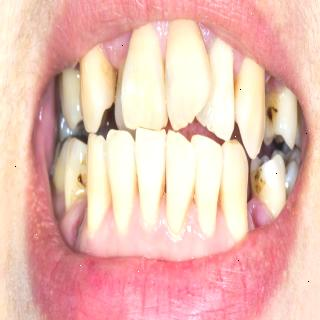cavities: (66, 162, 92, 204), (253, 161, 276, 199), (264, 102, 286, 132)
maligned: (161, 21, 209, 123), (196, 37, 242, 135), (108, 60, 136, 126)
